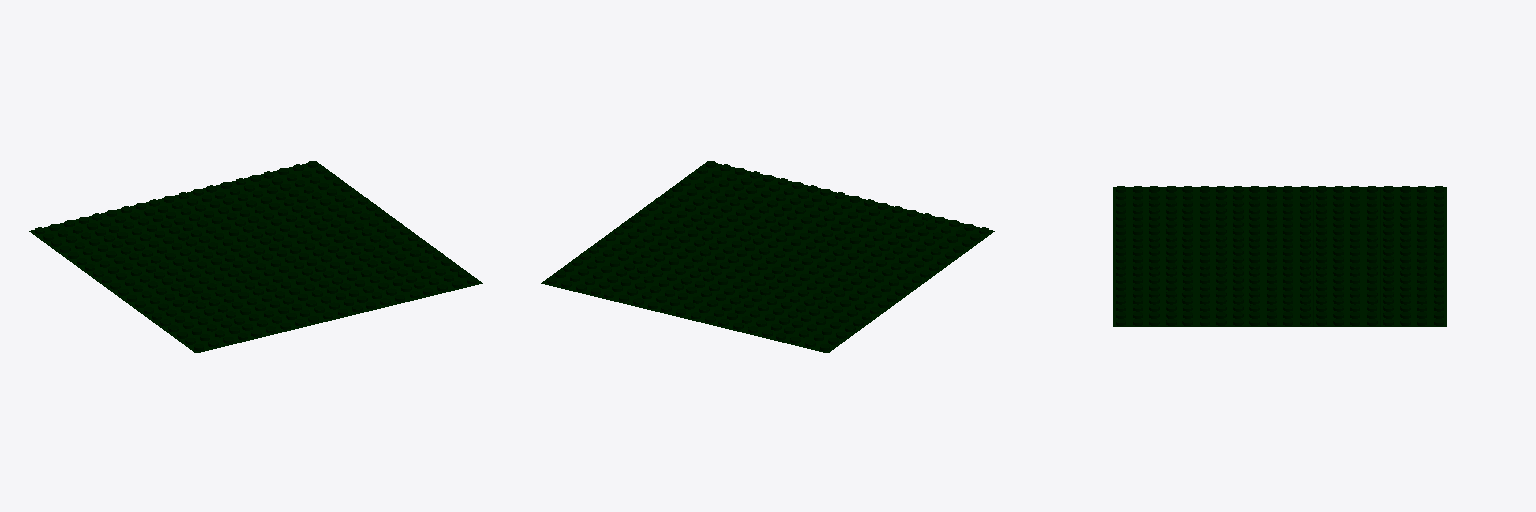
Rendered from maybeterreno.obj.
The picture shows the model from 3 angles: view 1: azimuth 30°, elevation 25°; view 2: azimuth 150°, elevation 25°; view 3: azimuth 270°, elevation 25°; orthographic projection.
Parts seen in each view (by area): view 1: Cylinder.008; view 2: Cylinder.008; view 3: Cylinder.008.
Boxes of the visible parts, x1,y1,x2,y2 form: Cylinder.008: [29, 161, 482, 352]; Cylinder.008: [541, 161, 994, 352]; Cylinder.008: [1113, 186, 1446, 326].
Bounding box in the file's own units: 17.43 × 0.1873 × 17.58.